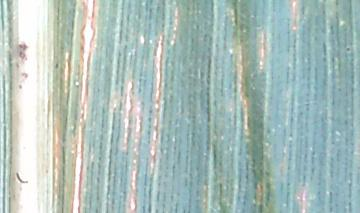tarspot: (54, 63, 60, 70), (345, 46, 351, 53)
